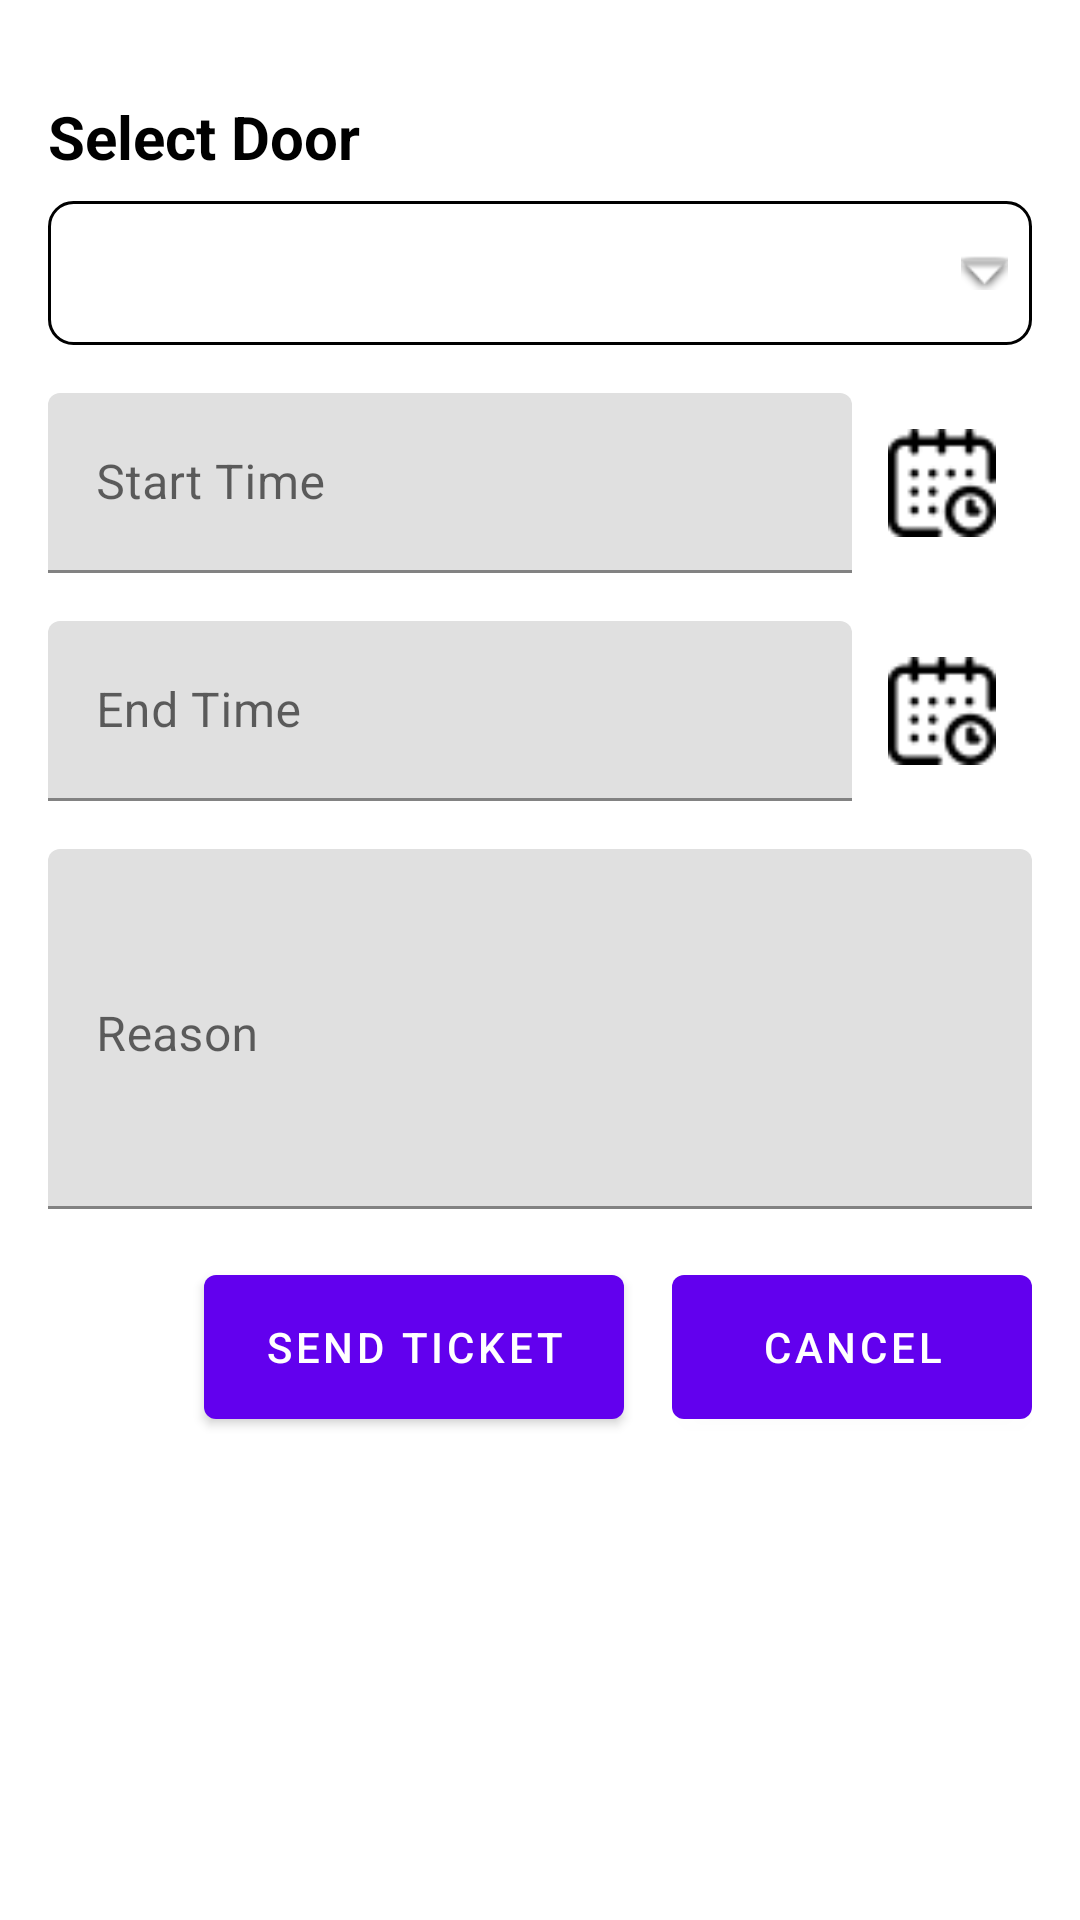

Where to tap for icons on this 1080px×1920px app screen, as [x,y]:
calendar: [942,483], [942,711]
